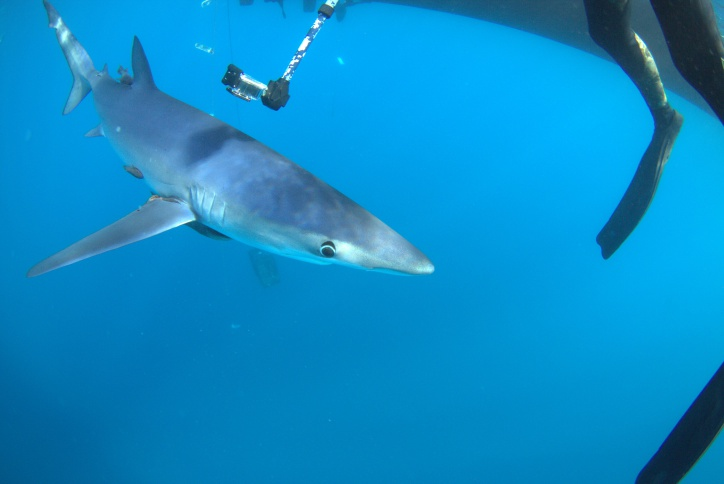Azul: (10, 1, 449, 308)
